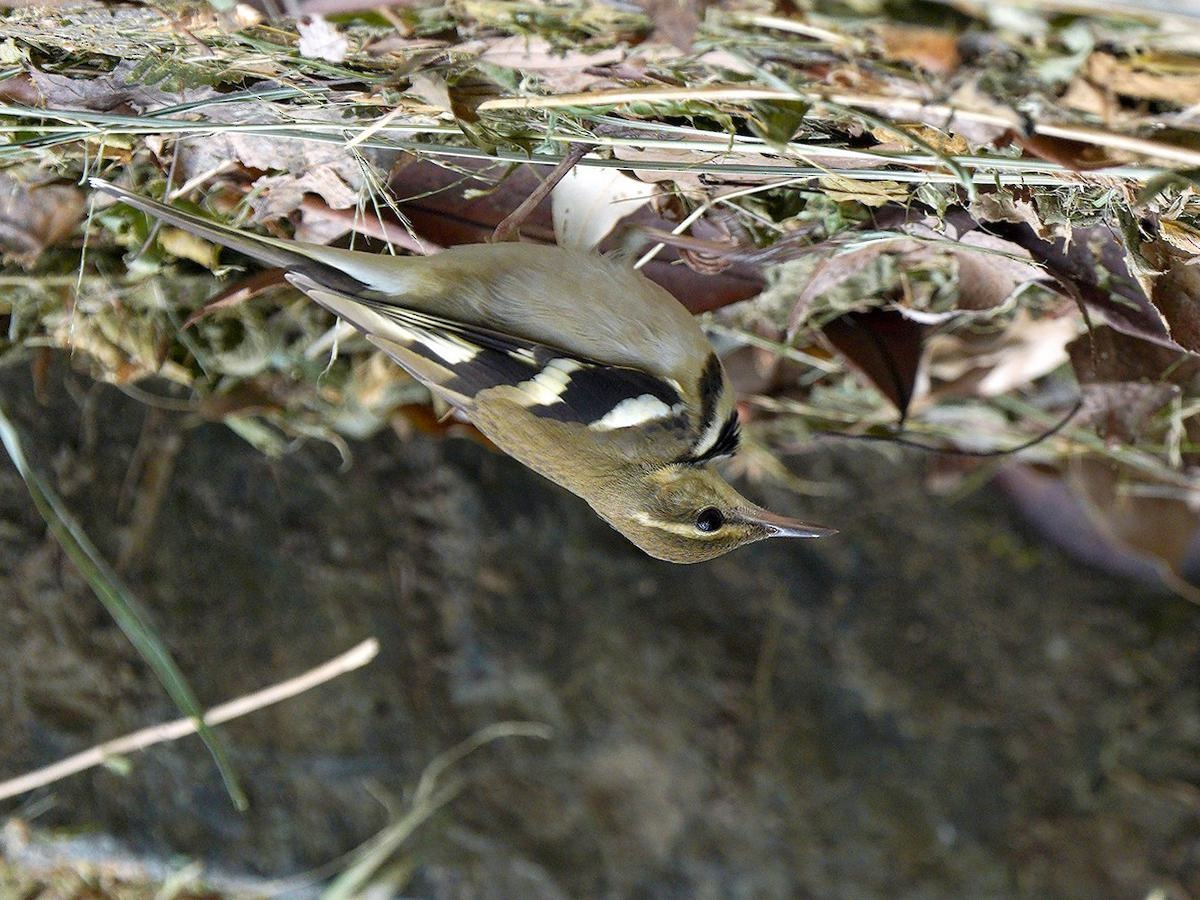wagtail: (244, 183, 836, 578)
